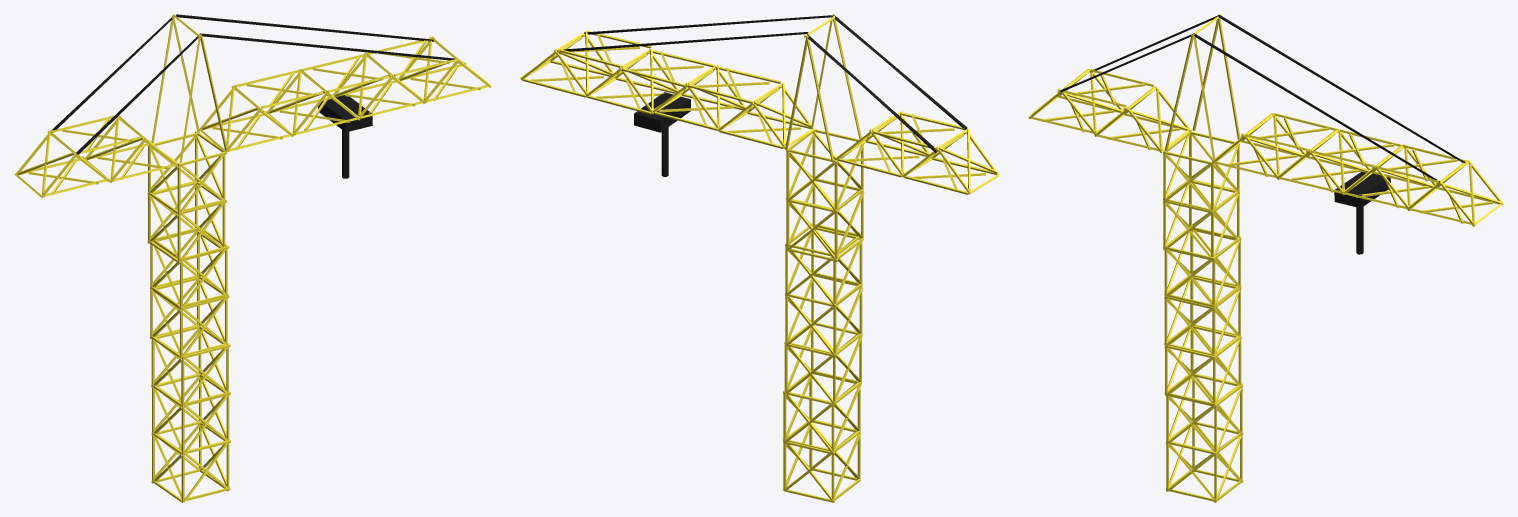
File: update.glb
3 renders of one model, left to right at view 1: azimuth 30°, elevation 25°; view 2: azimuth 150°, elevation 25°; view 3: azimuth 330°, elevation 25°, orthographic.
Parts seen in each view (by area): view 1: group1532226185, group307797914, group776536491, group509876920, group533580267, group1775780259, group1751413145, group1646145142, group880570556, group219201849, group795856984, group479716467 (+7 smaller); view 2: group307797914, group776536491, group1532226185, group1751413145, group1775780259, group533580267, group509876920, group1646145142, group795856984, group219201849, group880570556, group479716467 (+8 smaller); view 3: group776536491, group1532226185, group509876920, group533580267, group307797914, group1775780259, group1751413145, group880570556, group795856984, group1646145142, group219201849, group479716467 (+6 smaller).
Part boxes in pixels (x1,y1,x2,y2): group1532226185: (151, 421, 230, 502); group307797914: (147, 131, 226, 214); group776536491: (150, 225, 229, 308); group509876920: (151, 325, 230, 407); group533580267: (150, 276, 229, 358); group1775780259: (147, 181, 226, 262); group1751413145: (151, 374, 230, 454); group1646145142: (199, 85, 292, 152); group880570556: (84, 115, 178, 182); group219201849: (333, 52, 425, 118); group795856984: (399, 36, 491, 103); group479716467: (318, 95, 372, 132); group307797914: (786, 129, 864, 212); group776536491: (784, 223, 862, 307); group1532226185: (783, 420, 861, 502); group1751413145: (783, 372, 861, 454); group1775780259: (786, 180, 864, 261); group533580267: (784, 275, 862, 357); group509876920: (784, 324, 862, 405); group1646145142: (717, 83, 814, 148); group795856984: (520, 31, 616, 97); group219201849: (585, 48, 681, 114); group880570556: (835, 111, 930, 177); group479716467: (634, 92, 690, 132); group776536491: (1164, 225, 1241, 307); group1532226185: (1165, 422, 1243, 502); group509876920: (1164, 325, 1241, 405); group533580267: (1164, 276, 1241, 355); group307797914: (1162, 130, 1240, 211); group1775780259: (1162, 180, 1239, 260); group1751413145: (1165, 374, 1243, 455); group880570556: (1094, 86, 1190, 152); group795856984: (1407, 160, 1503, 226); group1646145142: (1212, 113, 1306, 179); group219201849: (1344, 144, 1439, 210); group479716467: (1334, 171, 1390, 208).
Bounding box in the file's own units: 16.03 × 15.71 × 2.17.
